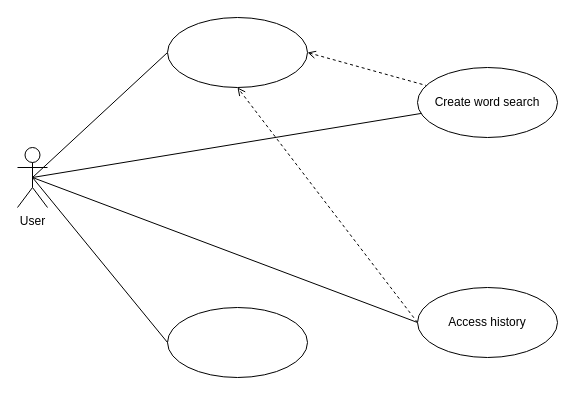
The diagram is 575 pixels wide and 395 high, and some of its shapes have lost their labels. Here are the shapes that lost their labels. From the top down, the centre of each, then its label:
(237,52): Log in
(237,342): Sign up
